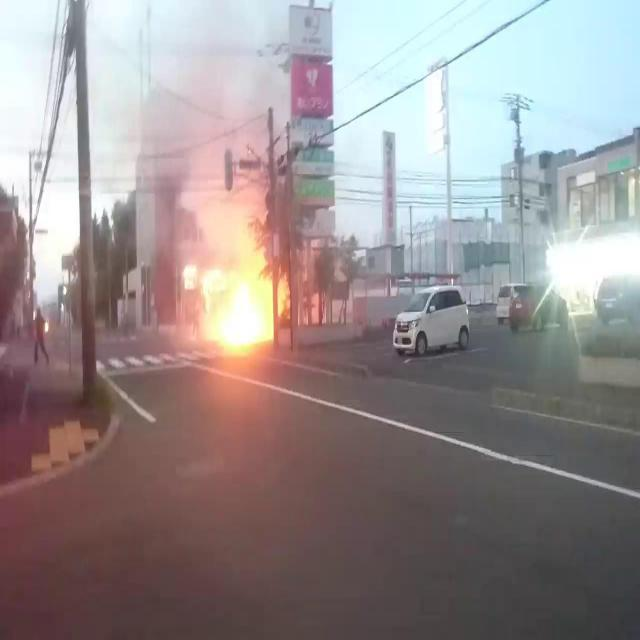Fire: (204, 276, 284, 348)
